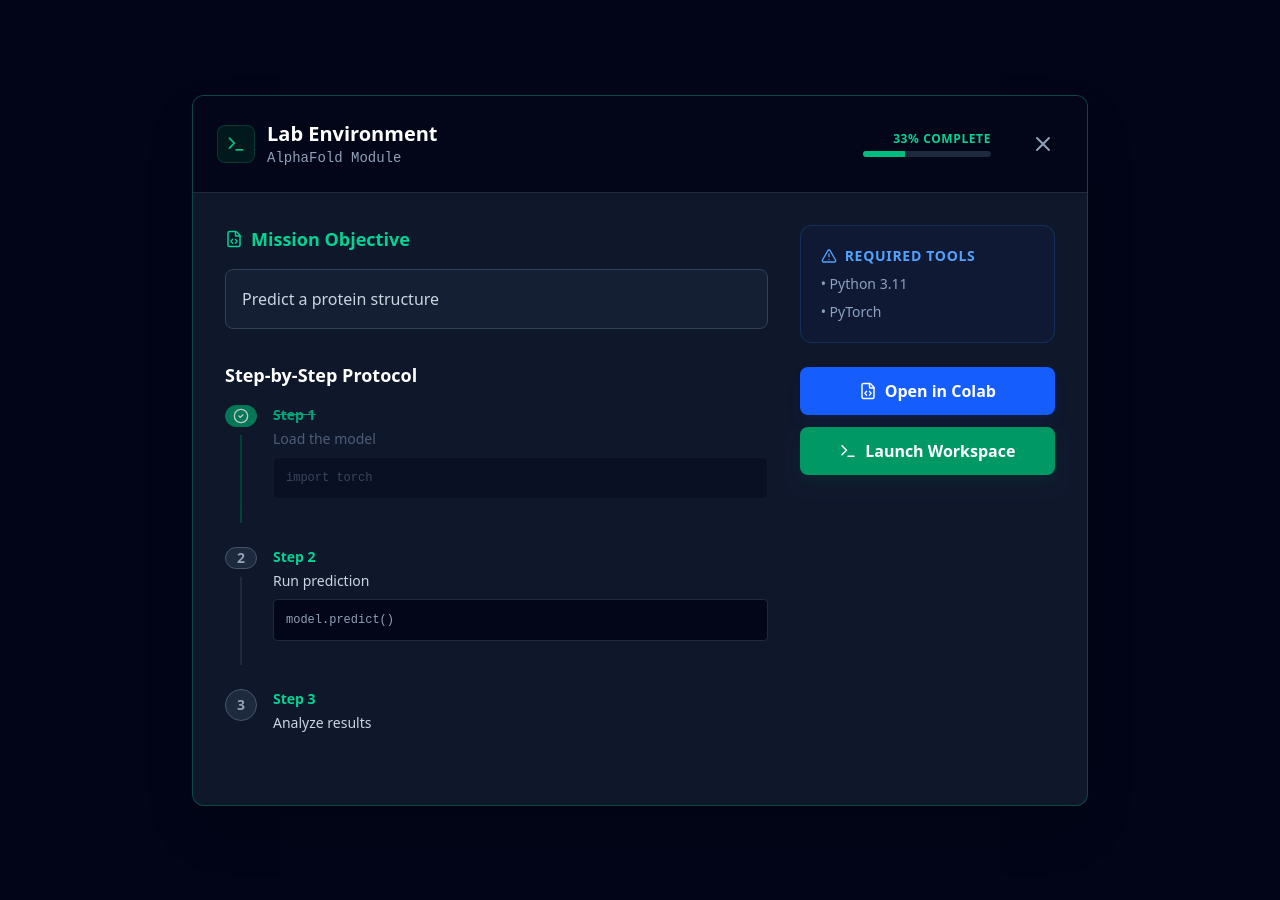
LabDetail › localStorage fallback (unauthenticated) › untoggling a step removes it from localStorage
Check: the text "33% Complete" is shown, box x1=893 y1=130 x2=991 y2=146
# Click step 1 again to untoggle
Click the text "Load the model": click(324, 438) x1=273 y1=428 x2=376 y2=448
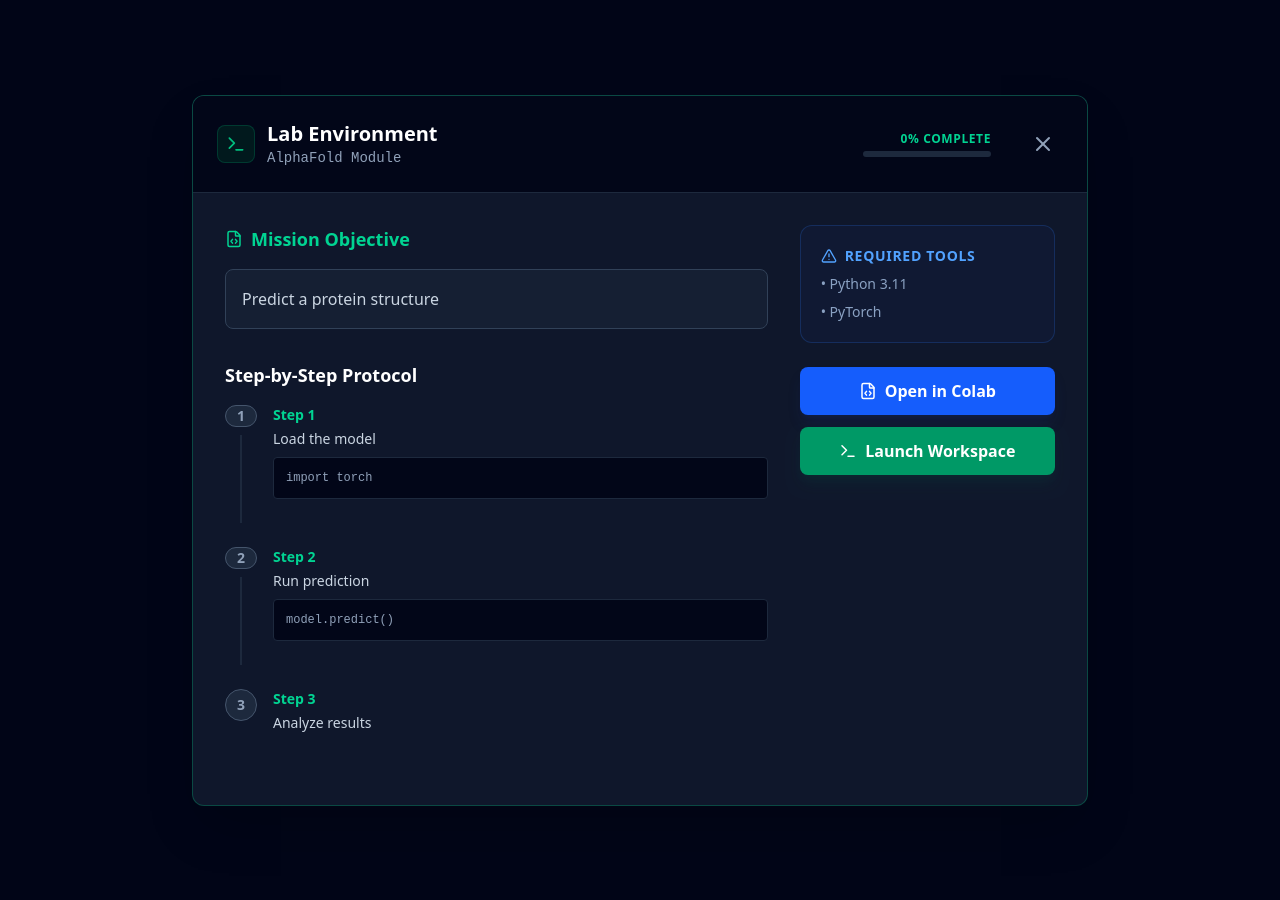
Check: the text "0% Complete" is shown, box x1=901 y1=130 x2=991 y2=146
